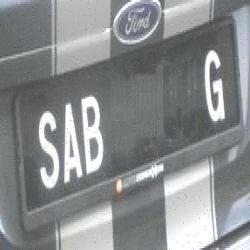LicensePlate: (11, 5, 246, 240)
